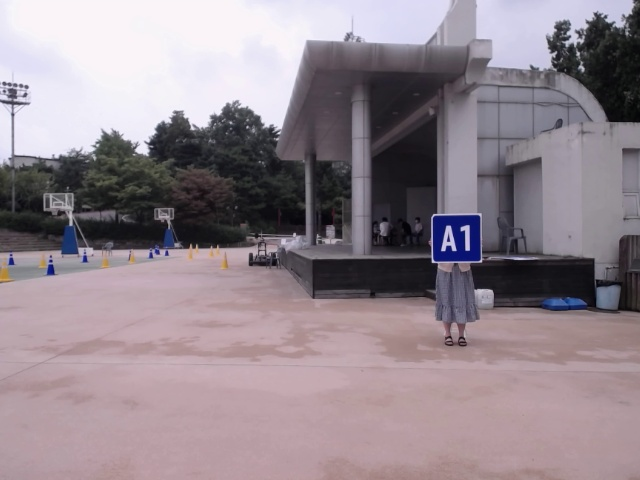delivery_a1: (431, 213, 483, 263)
